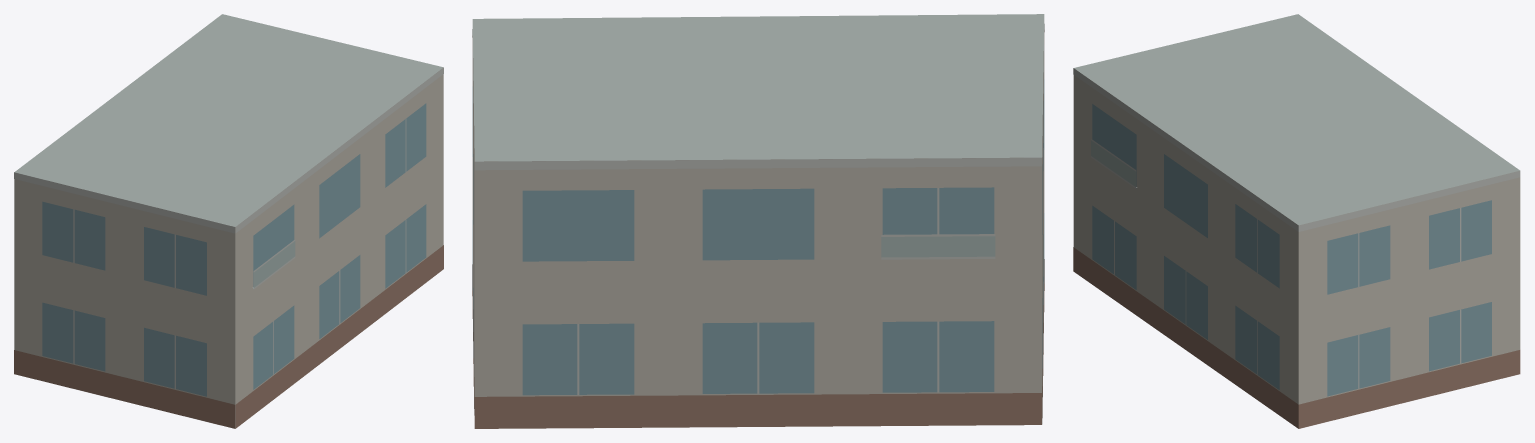
Rendered from survey-upis-32744784.glb.
The picture shows the model from 3 angles, left to right: view 1: azimuth 30°, elevation 25°; view 2: azimuth 150°, elevation 25°; view 3: azimuth 270°, elevation 25°; orthographic projection. The views are drawn at different scales.
Parts seen in each view (by area): view 1: survey-upis-32744784.tmp; view 2: survey-upis-32744784.tmp; view 3: survey-upis-32744784.tmp.
Boxes of the visible parts, x1,y1,x2,y2 form: survey-upis-32744784.tmp: (14, 14, 443, 428); survey-upis-32744784.tmp: (472, 14, 1044, 428); survey-upis-32744784.tmp: (1073, 14, 1520, 428).
Bounding box in the file's own units: 16.68 × 7.48 × 14.9.
